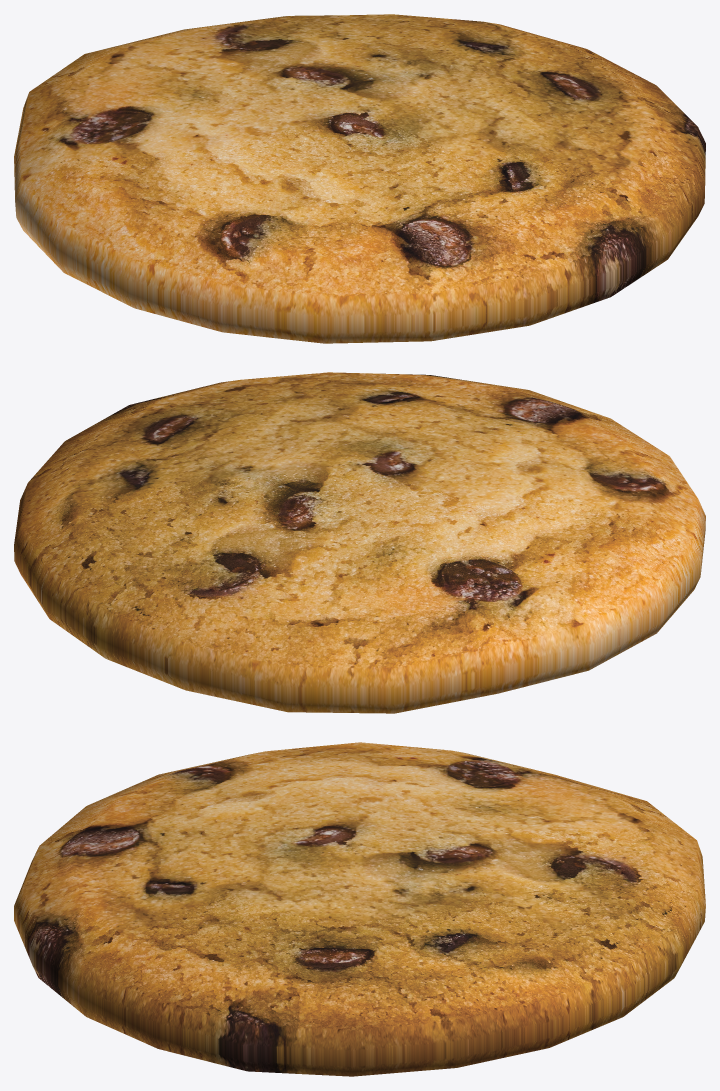
File: Cookie.fbx
3 views of the same model, one above another, from view 1: azimuth 30°, elevation 25°; view 2: azimuth 150°, elevation 25°; view 3: azimuth 270°, elevation 25° (orthographic). The views are drawn at different scales.
Visible parts, largest first — view 1: pCylinder15; view 2: pCylinder15; view 3: pCylinder15.
Part boxes in pixels (left/top/right/bottom): pCylinder15: left=14, top=14, right=705, bottom=343; pCylinder15: left=14, top=372, right=705, bottom=713; pCylinder15: left=14, top=742, right=705, bottom=1076.
Size of the model in its own units: 3362 by 527 by 3384.
